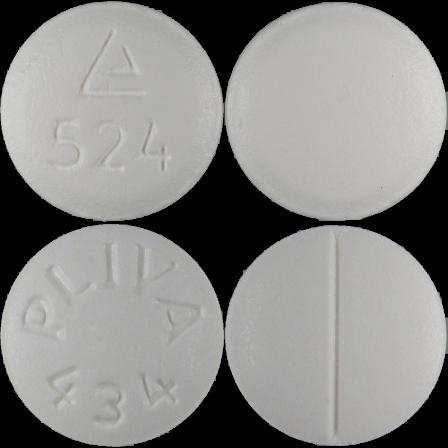33261-378: (0, 0, 224, 224)
